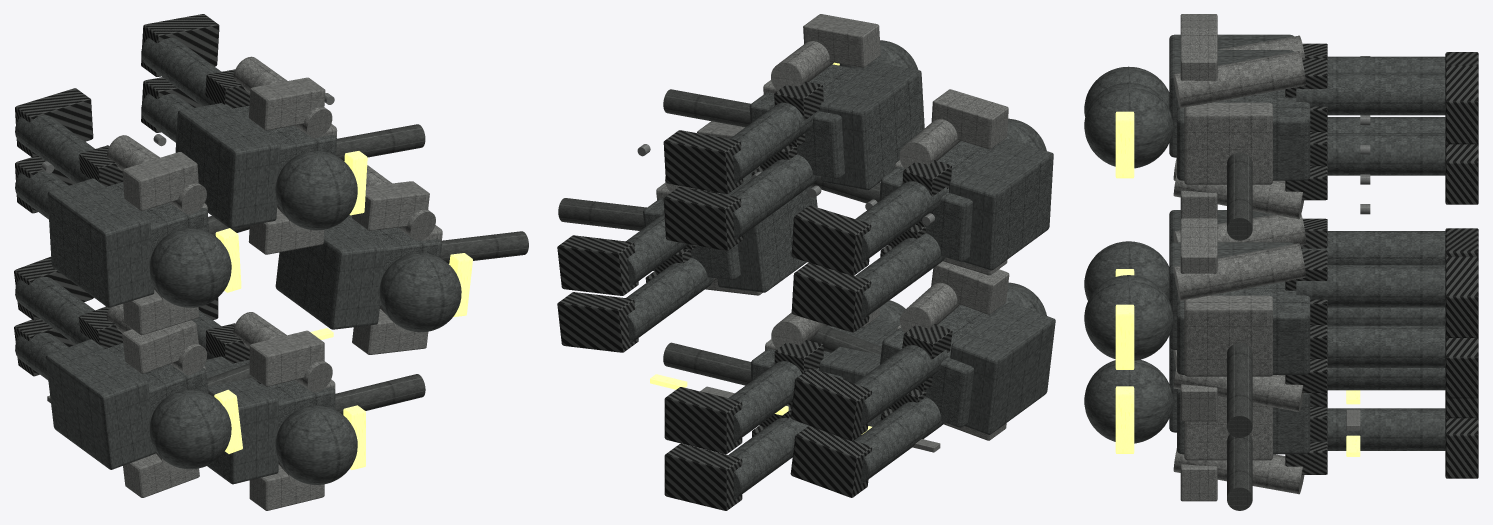
Rendered from c-u02-rifle-squad-lod0.glb.
The picture shows the model from 3 angles, left to right: view 1: azimuth 30°, elevation 25°; view 2: azimuth 150°, elevation 25°; view 3: azimuth 270°, elevation 25°; orthographic projection. The views are drawn at different scales.
Visible parts, largest first — view 1: soldier_3_backpack, soldier_4_backpack, soldier_1_backpack, soldier_0_backpack, soldier_4_helmet, soldier_3_helmet, soldier_2_helmet, soldier_1_helmet, soldier_0_helmet, soldier_2_backpack, soldier_3_shoulder_1, soldier_2_shoulder_1 (+42 smaller); view 2: soldier_3_backpack, soldier_4_backpack, soldier_1_backpack, soldier_0_backpack, soldier_4_boot_1, soldier_3_boot_1, soldier_2_boot_-1, soldier_2_boot_1, soldier_3_boot_-1, soldier_4_boot_-1, soldier_1_boot_1, soldier_1_boot_-1 (+37 smaller); view 3: soldier_1_chest, soldier_0_chest, soldier_1_leg_1, soldier_0_leg_1, soldier_0_leg_-1, soldier_0_helmet, soldier_1_helmet, soldier_1_leg_-1, soldier_2_helmet, soldier_2_leg_-1, soldier_0_torso, soldier_1_arm_1 (+52 smaller).
Part boxes in pixels (x1=…): soldier_3_backpack: x1=47, y1=178, x2=154, y2=307; soldier_4_backpack: x1=45, y1=339, x2=156, y2=469; soldier_1_backpack: x1=175, y1=103, x2=280, y2=228; soldier_0_backpack: x1=275, y1=218, x2=386, y2=329; soldier_4_helmet: x1=149, y1=389, x2=231, y2=469; soldier_3_helmet: x1=149, y1=228, x2=231, y2=307; soldier_2_helmet: x1=275, y1=405, x2=357, y2=484; soldier_1_helmet: x1=275, y1=151, x2=357, y2=230; soldier_0_helmet: x1=379, y1=253, x2=461, y2=332; soldier_2_backpack: x1=204, y1=356, x2=278, y2=484; soldier_3_shoulder_1: x1=122, y1=152, x2=198, y2=210; soldier_2_shoulder_1: x1=249, y1=330, x2=324, y2=386; soldier_3_backpack: x1=949, y1=139, x2=1053, y2=270; soldier_4_backpack: x1=950, y1=302, x2=1055, y2=434; soldier_1_backpack: x1=819, y1=62, x2=924, y2=190; soldier_0_backpack: x1=717, y1=178, x2=817, y2=292; soldier_4_boot_1: x1=790, y1=368, x2=872, y2=441; soldier_3_boot_1: x1=791, y1=205, x2=871, y2=275; soldier_2_boot_-1: x1=664, y1=443, x2=742, y2=510; soldier_2_boot_1: x1=664, y1=387, x2=742, y2=454; soldier_3_boot_-1: x1=791, y1=262, x2=871, y2=332; soldier_4_boot_-1: x1=790, y1=426, x2=872, y2=497; soldier_1_boot_1: x1=663, y1=130, x2=743, y2=194; soldier_1_boot_-1: x1=663, y1=187, x2=743, y2=250; soldier_1_chest: x1=1184, y1=102, x2=1272, y2=184; soldier_0_chest: x1=1184, y1=295, x2=1272, y2=376; soldier_1_leg_1: x1=1296, y1=72, x2=1445, y2=115; soldier_0_leg_1: x1=1296, y1=265, x2=1445, y2=307; soldier_0_leg_-1: x1=1327, y1=325, x2=1445, y2=367; soldier_0_helmet: x1=1084, y1=275, x2=1172, y2=360; soldier_1_helmet: x1=1084, y1=82, x2=1172, y2=168; soldier_1_leg_-1: x1=1310, y1=133, x2=1445, y2=175; soldier_2_helmet: x1=1084, y1=359, x2=1172, y2=443; soldier_2_leg_-1: x1=1310, y1=408, x2=1445, y2=450; soldier_0_torso: x1=1177, y1=281, x2=1310, y2=374; soldier_1_arm_1: x1=1173, y1=51, x2=1305, y2=108.
Size of what is drawn, in the model's own units: 3.06 by 2.65 by 2.13.
6 materials, 6 textured.
